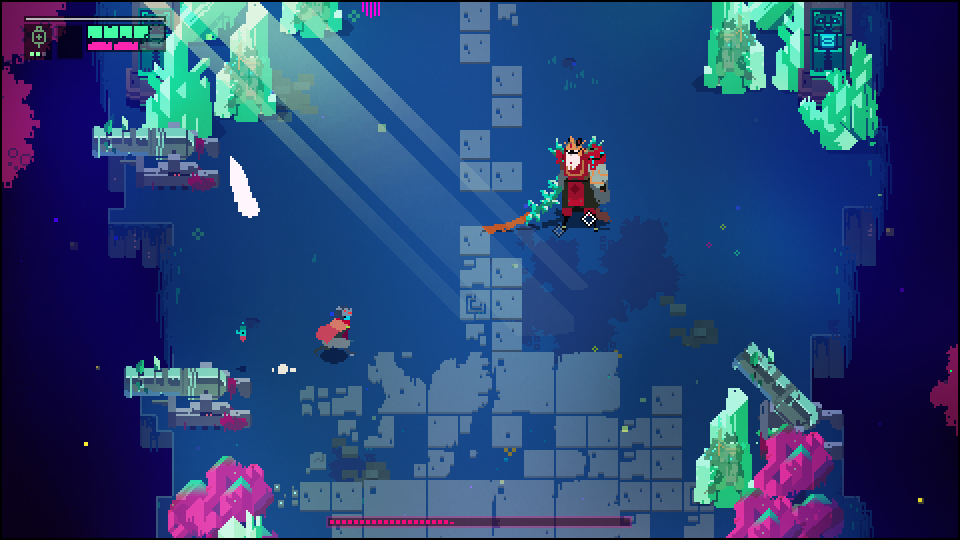hanged_man: (520, 132, 616, 238)
player: (311, 301, 354, 355)
